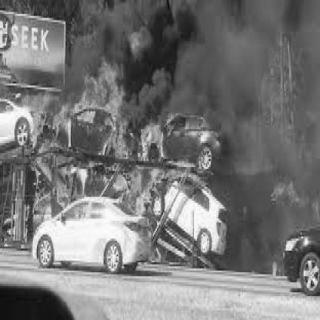Fire: (16, 33, 208, 221)
